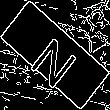N_NE: (26, 23, 84, 87)
